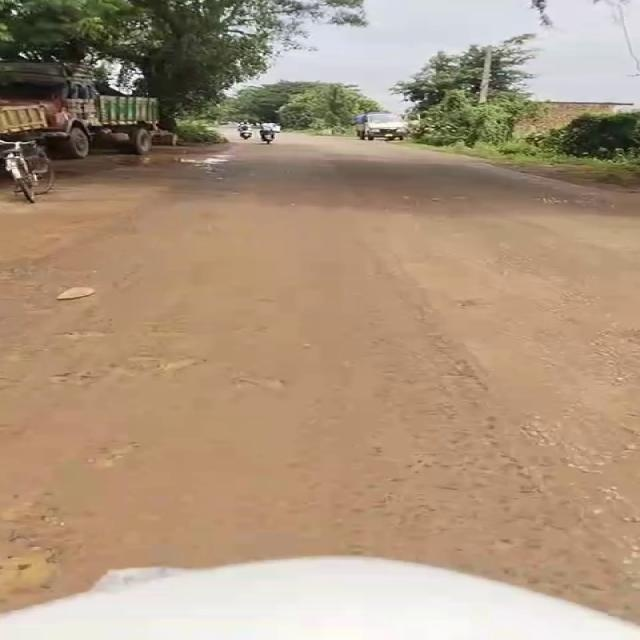pothole: (2, 544, 67, 594), (224, 372, 290, 398), (37, 370, 105, 389), (95, 438, 130, 472), (59, 328, 114, 346), (153, 356, 208, 372)
